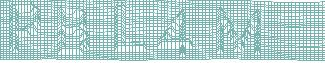4: (156, 8, 193, 57)
B: (55, 5, 90, 57)
L: (112, 3, 148, 54)
M: (214, 6, 262, 56)
P: (7, 2, 41, 54)
